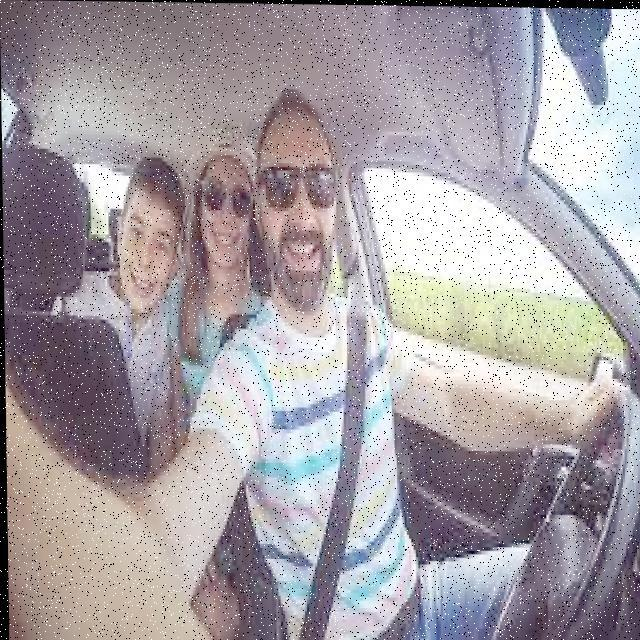seatbelt: (258, 288, 409, 640)
